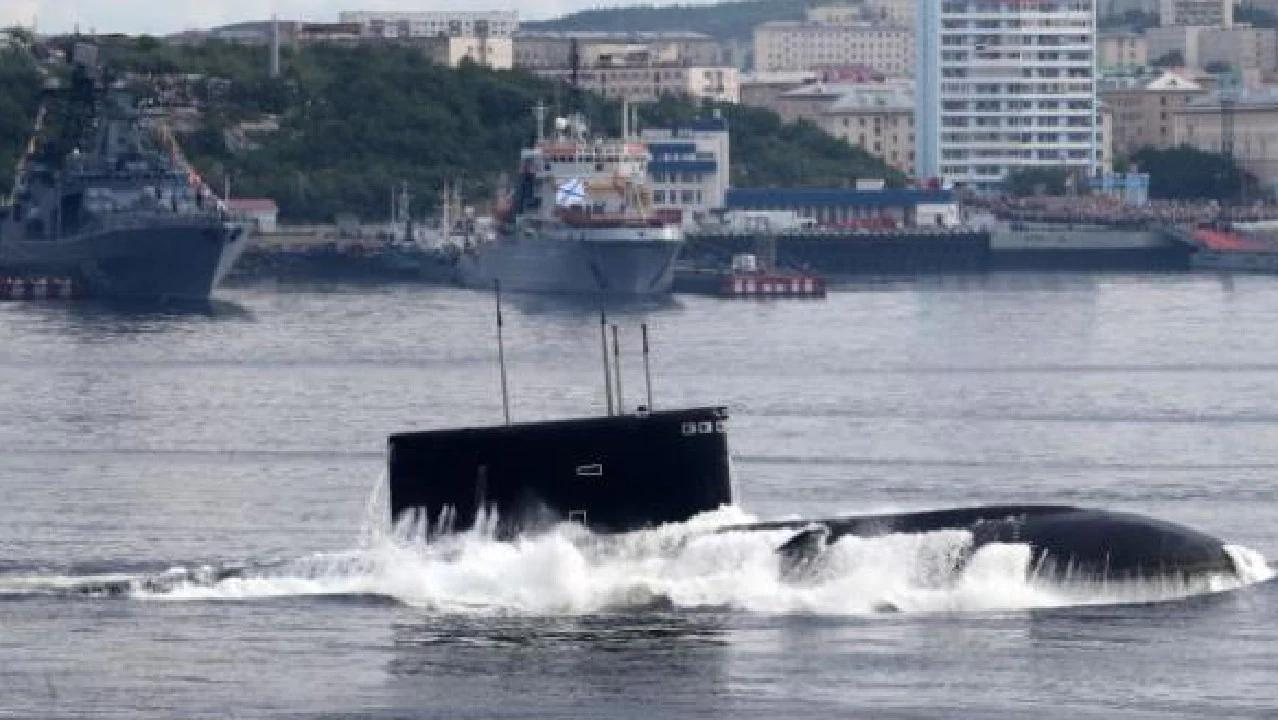Submarine: (238, 320, 1278, 720)
